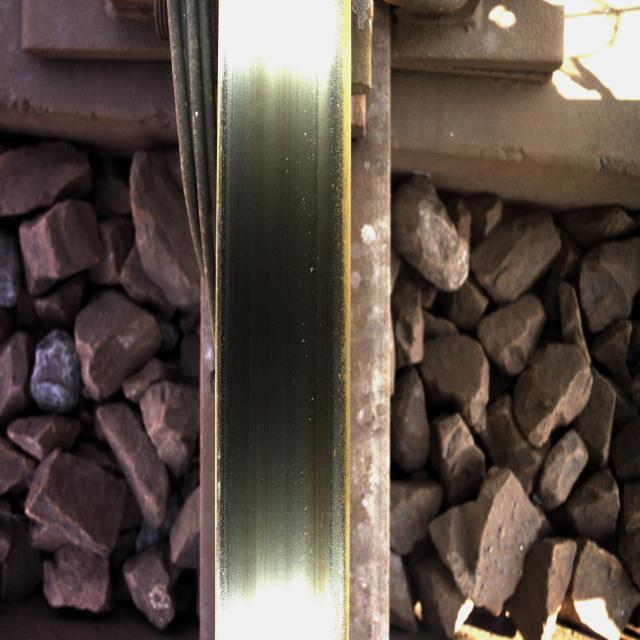break: (230, 68, 338, 578)
